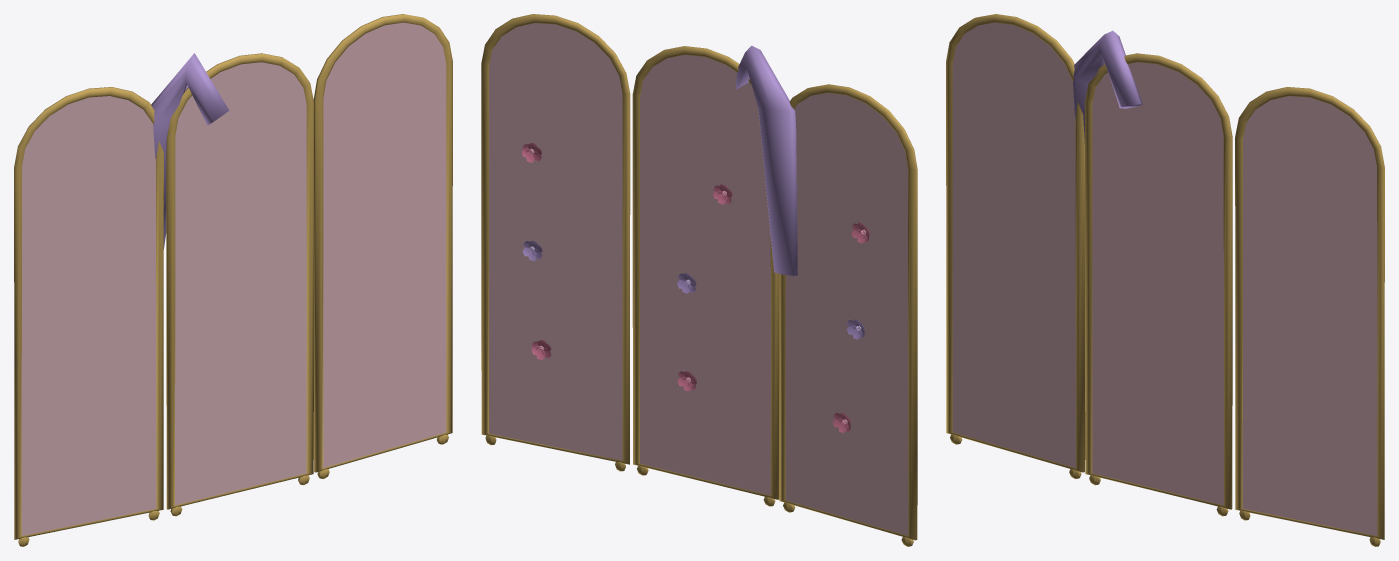
File: dressing_screen.glb
The picture shows the model from 3 angles, left to right: view 1: azimuth 30°, elevation 25°; view 2: azimuth 150°, elevation 25°; view 3: azimuth 330°, elevation 25°; orthographic projection.
Visible parts, largest first — view 1: dressing_screen; view 2: dressing_screen; view 3: dressing_screen.
Boxes of the visible parts, x1,y1,x2,y2 form: dressing_screen: (14,14,452,546); dressing_screen: (481,14,917,546); dressing_screen: (946,14,1384,546).
Size of what is drawn, in the model's own units: 1.8 by 1.8 by 0.1.
